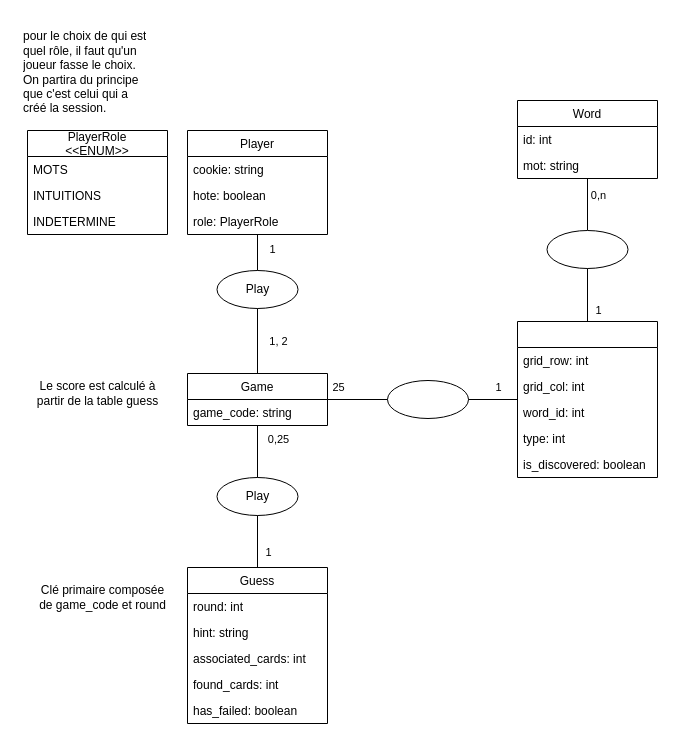
This 675x743 diagram has some shape labels left out. Here are the shapes that lost their labels. From the top down, the box of each, then its label:
(546, 230, 628, 268): Compose
(386, 380, 468, 418): Define
(516, 320, 658, 478): GameGrid
